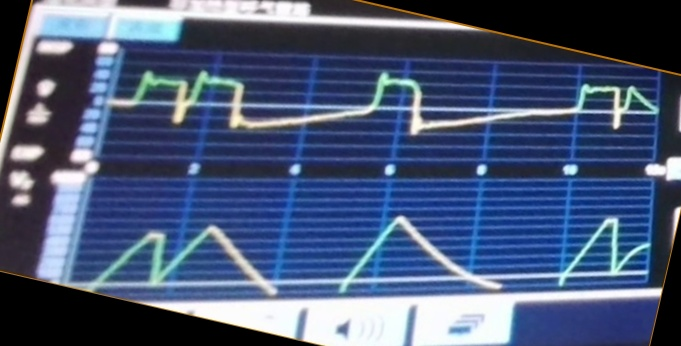Double_Triggering Flow: (119, 67, 641, 156)
Double_Triggering Volume: (99, 208, 649, 290)
